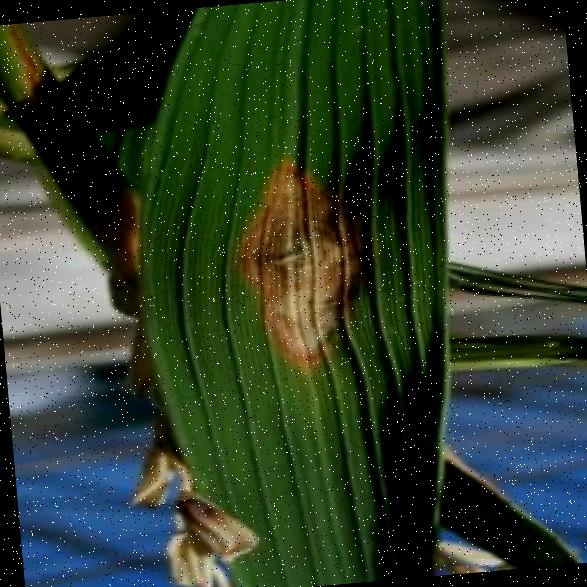Leaf_smut: (193, 117, 399, 391)
